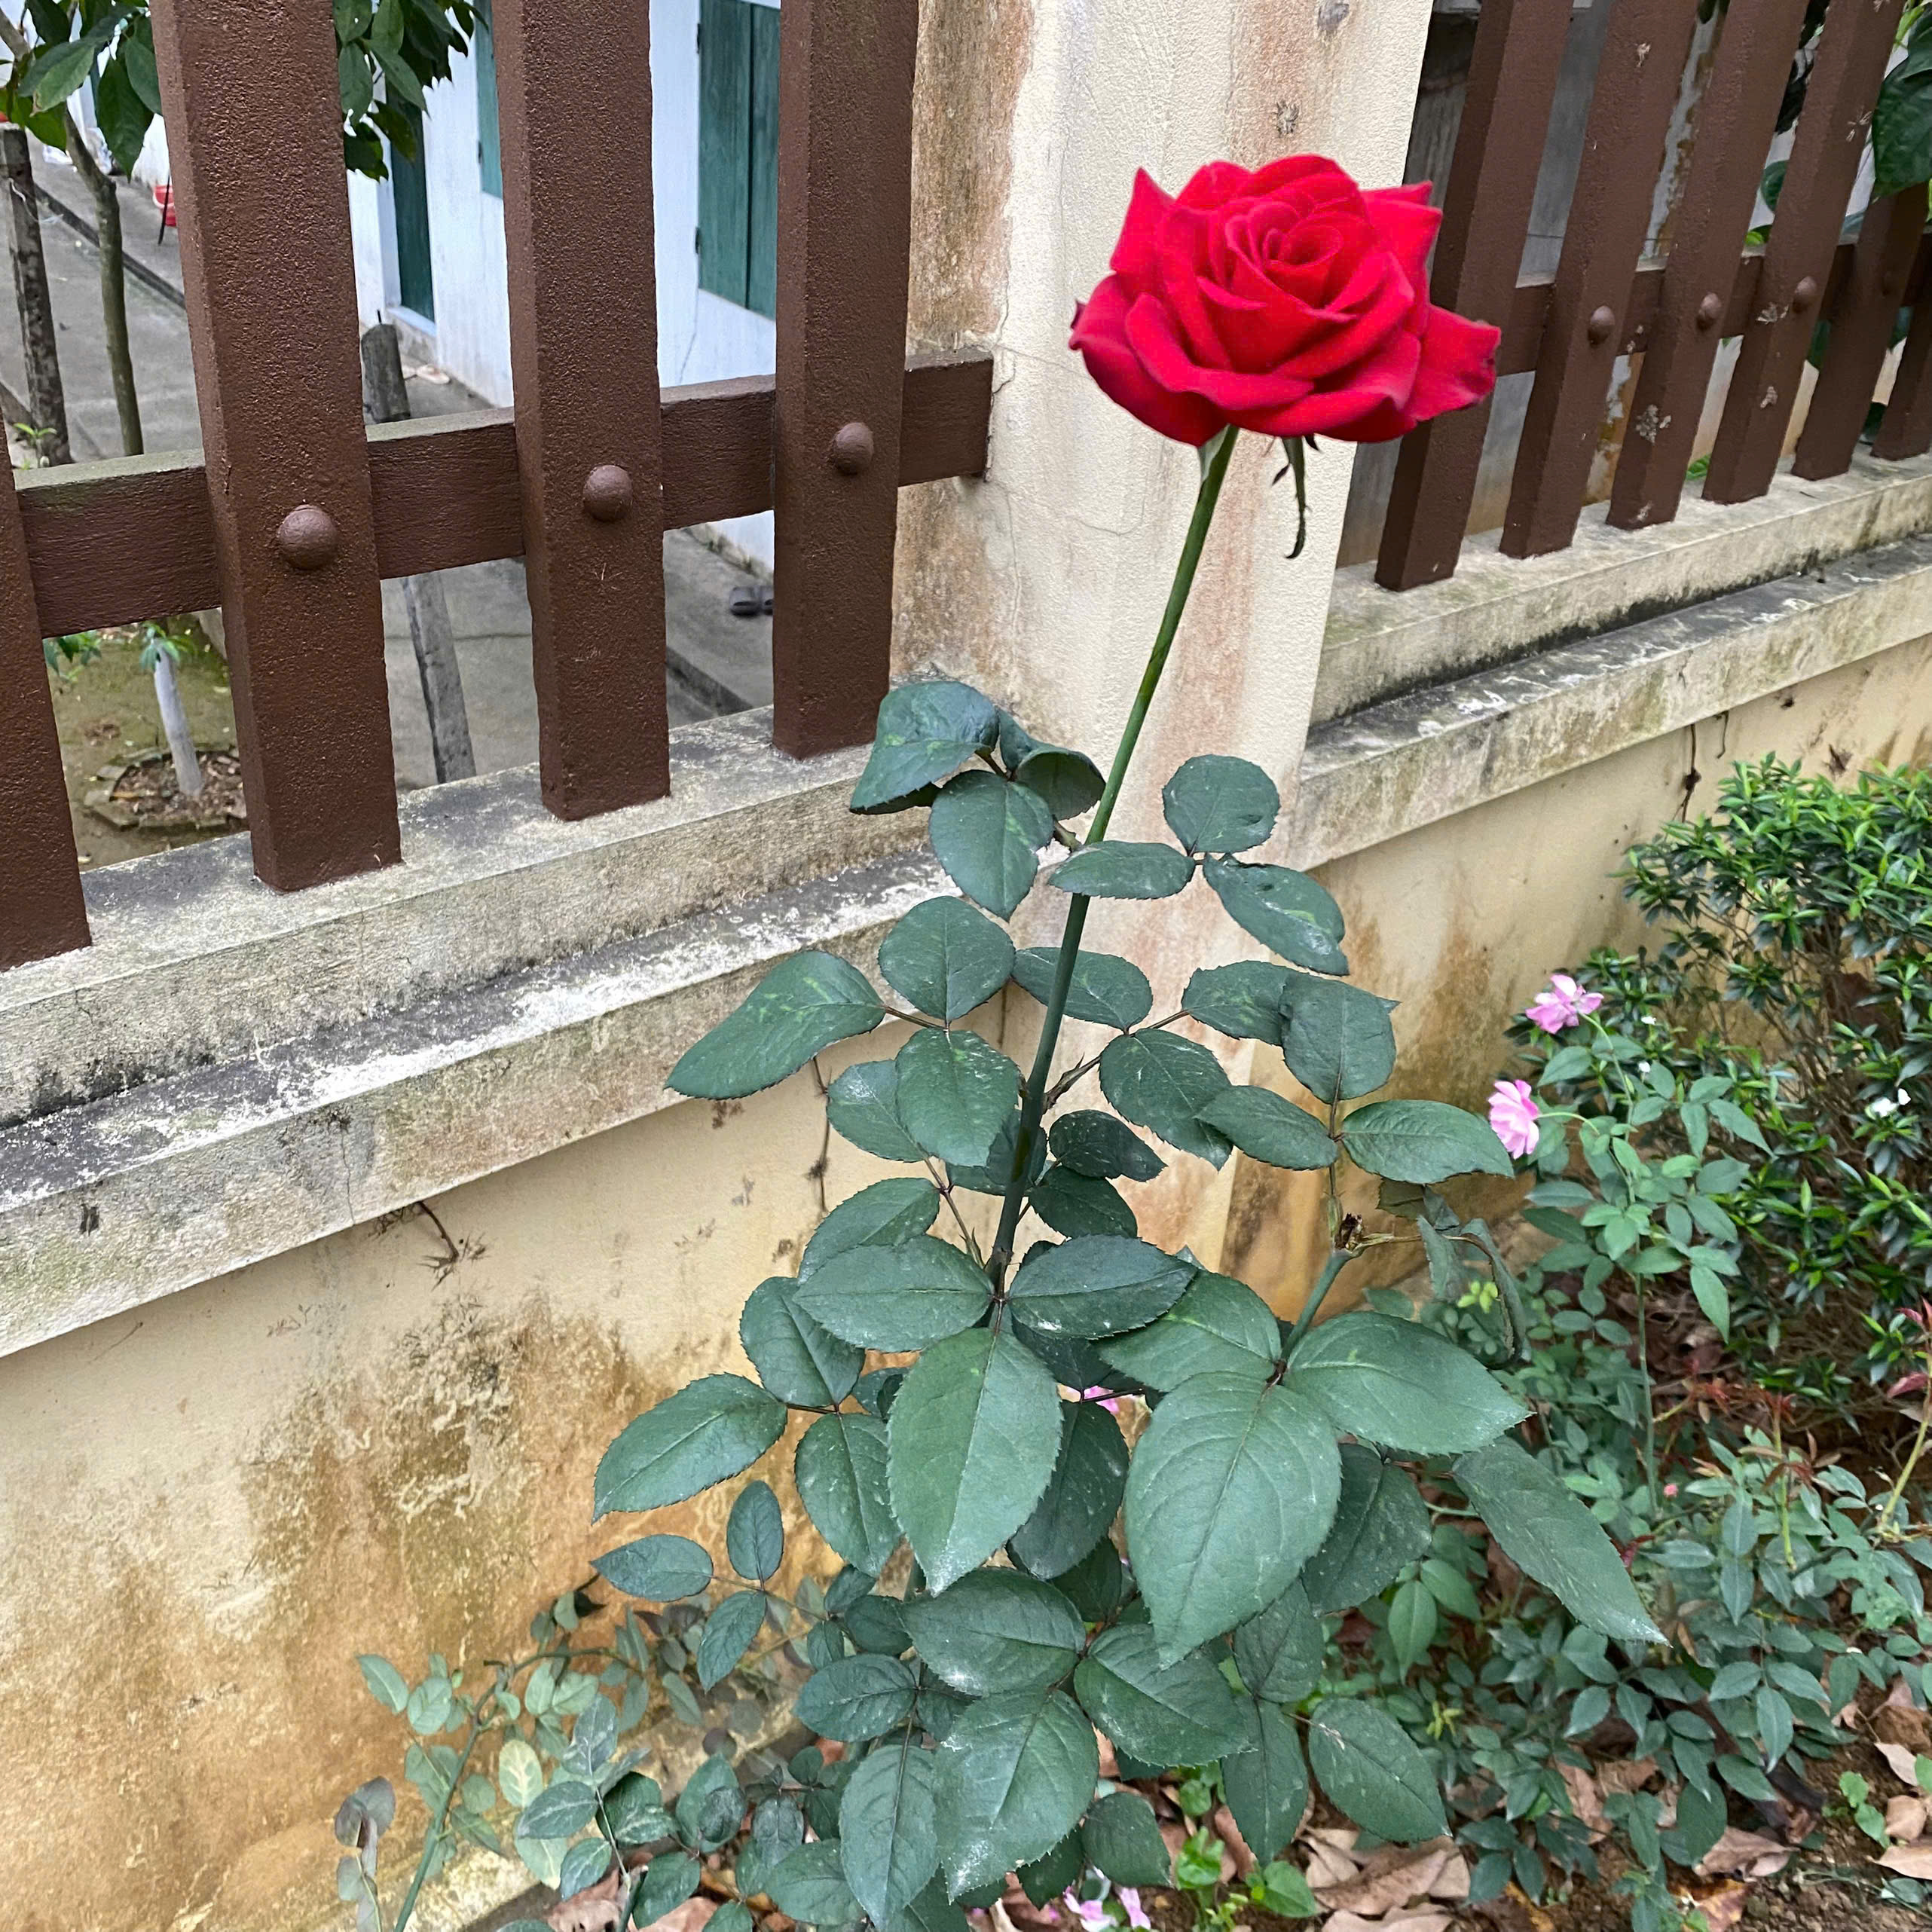hoa_hong_do: (550, 138, 1502, 1854)
